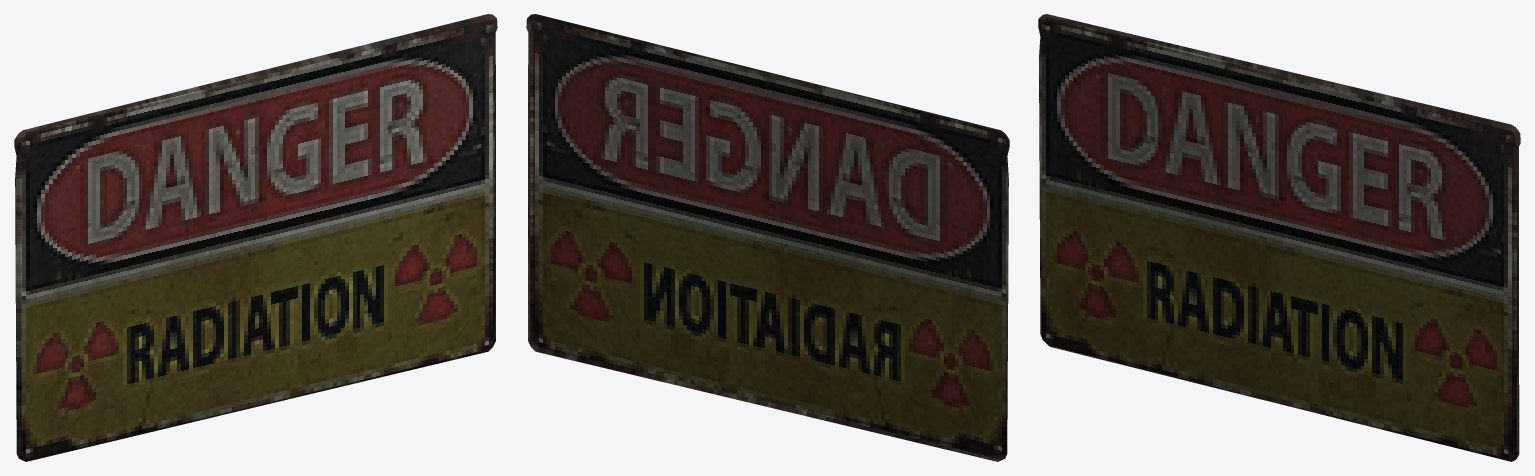
File: sign_2.glb
3 renders of one model, left to right at view 1: azimuth 30°, elevation 25°; view 2: azimuth 150°, elevation 25°; view 3: azimuth 330°, elevation 25°, orthographic.
Parts seen in each view (by area): view 1: sign_2; view 2: sign_2; view 3: sign_2.
Part boxes in pixels (x1,y1,x2,y2): sign_2: (14, 14, 497, 461); sign_2: (526, 14, 1009, 461); sign_2: (1038, 14, 1520, 461).
Size of the model in its own units: 0.4399 by 0.2939 by 0.003.
1 material, 1 textured.
